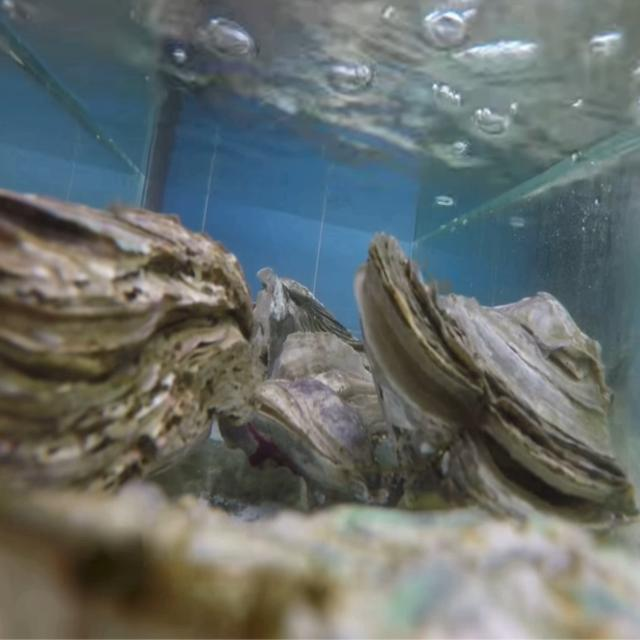Oyster-Closed: (0, 188, 255, 522), (251, 332, 408, 508)
Oyster-Indeterminate: (0, 479, 640, 640)
Oyster-Open: (355, 230, 640, 542)
